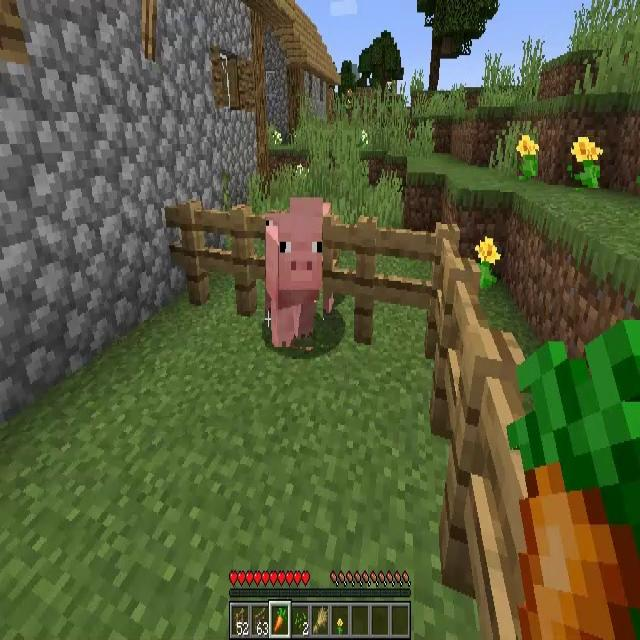flower: (474, 238, 500, 294), (572, 137, 600, 188), (517, 133, 538, 176)
pig: (265, 217, 323, 347)
